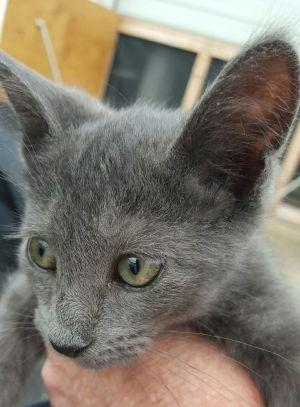rblue: (1, 35, 300, 375)
